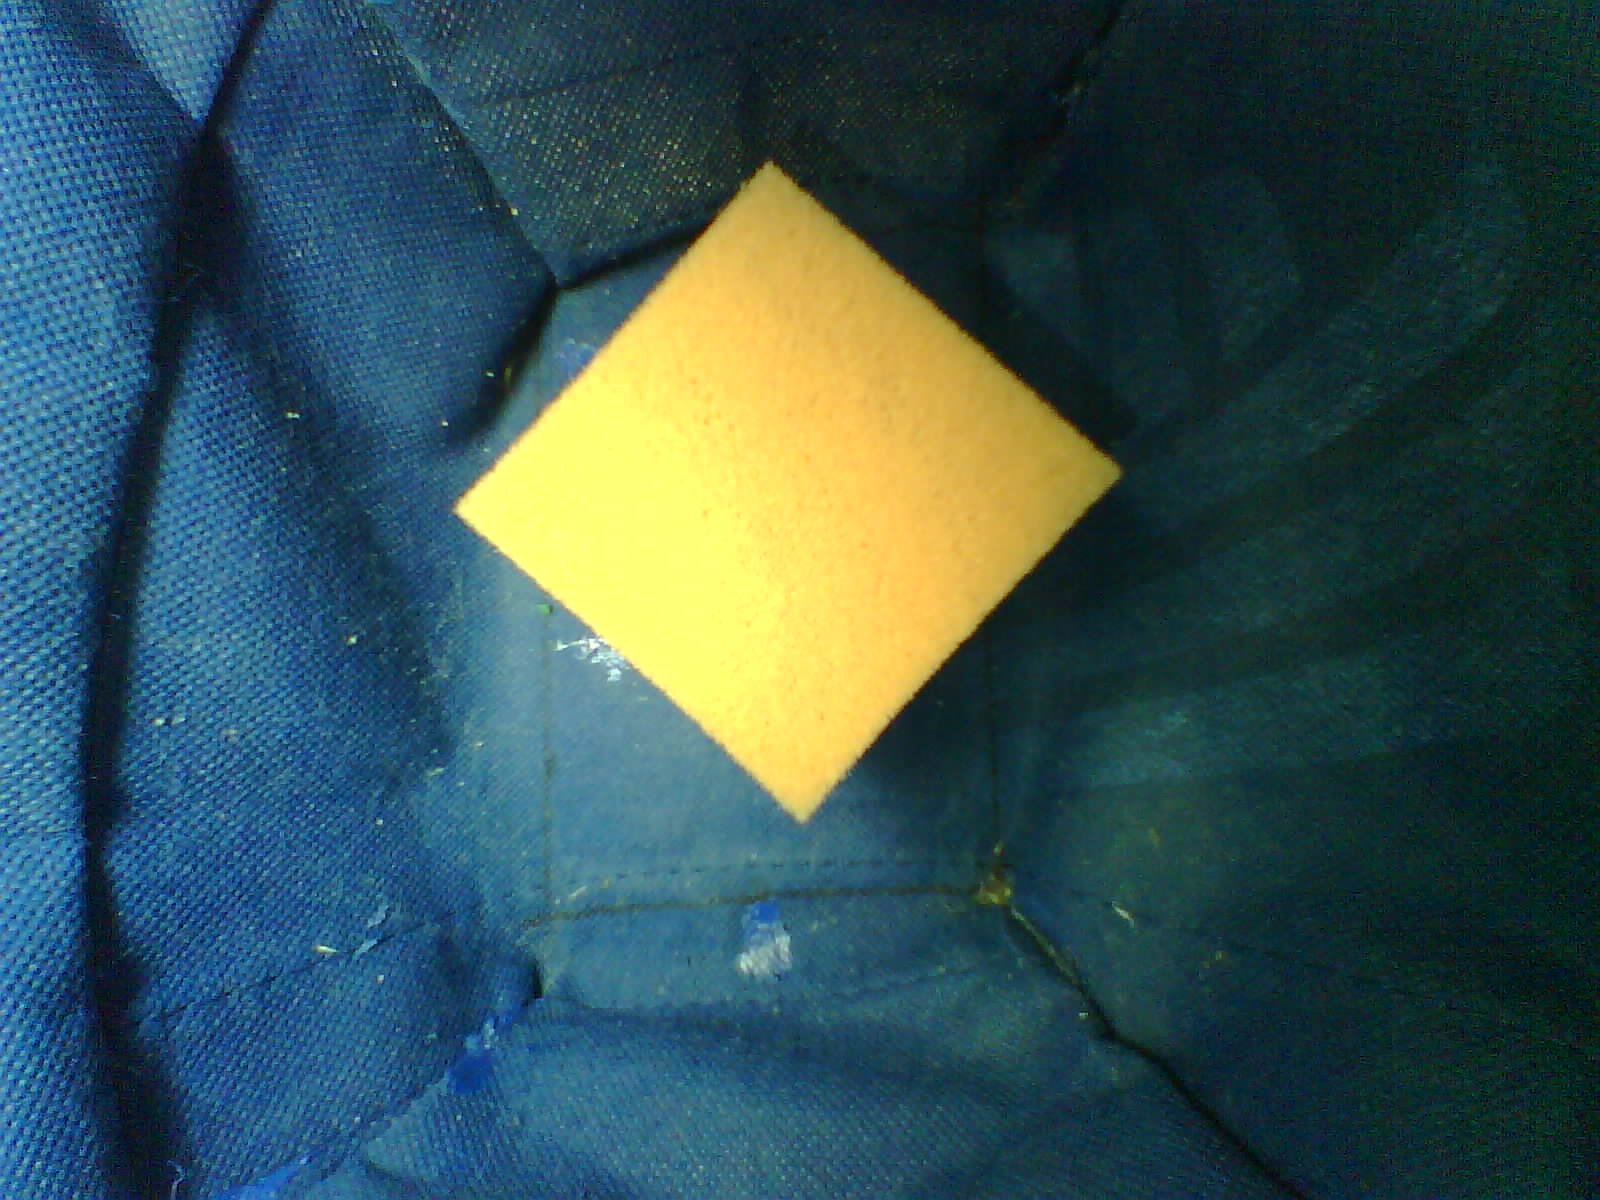cube-soft: (433, 145, 1140, 858)
